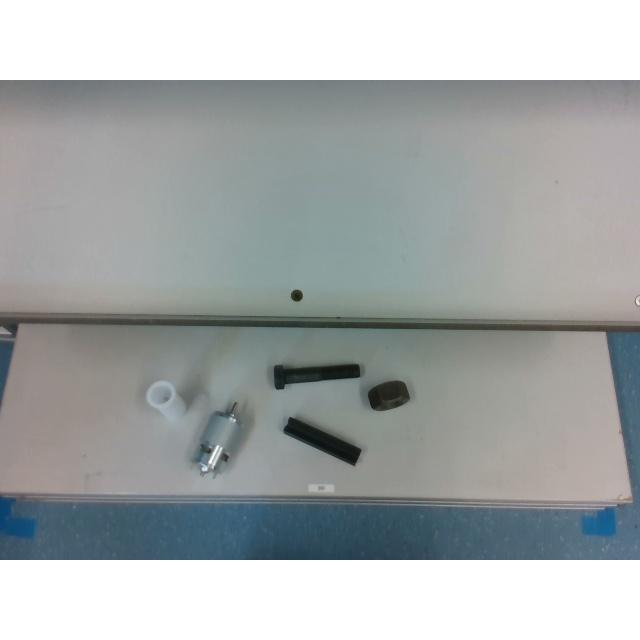M20_100: (272, 363, 360, 389)
M30: (368, 380, 410, 410)
Motor2: (194, 402, 238, 474)
S40_40_B: (283, 417, 361, 465)
Spacer: (147, 380, 186, 420)
